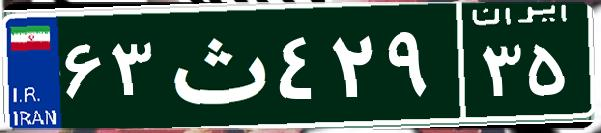2: (330, 28, 385, 110)
3: (475, 38, 525, 113), (110, 28, 158, 105)
4: (273, 28, 330, 110)
5: (525, 38, 570, 115)
6: (57, 26, 110, 107)
9: (385, 28, 445, 110)
ث: (158, 15, 273, 115)
